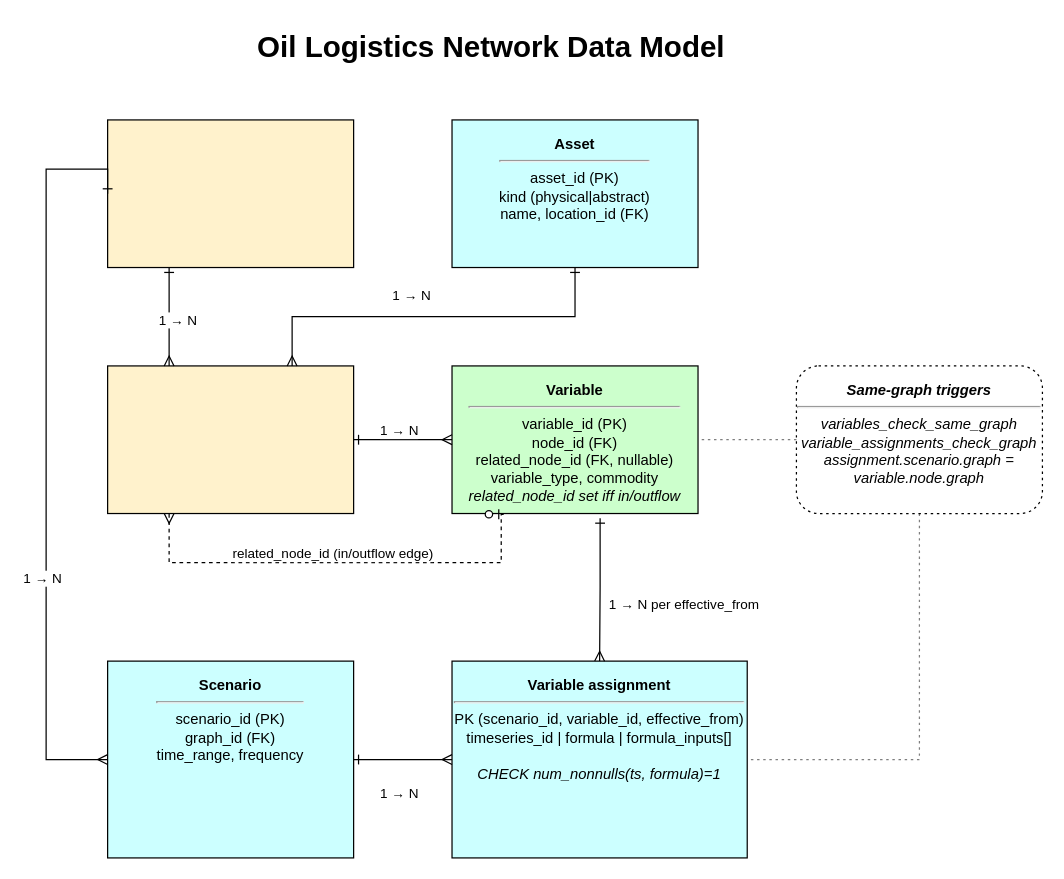
This 1064x879 diagram has some shape labels left out. Here are the shapes that lost their labels. From the top down, the centre of each, then its label:
pixel 230 193: Graph graph_id (PK) name one per topology view
pixel 230 439: Node node_id (PK) graph_id (FK) asset_id (FK) UNIQUE (graph_id, asset_id)
